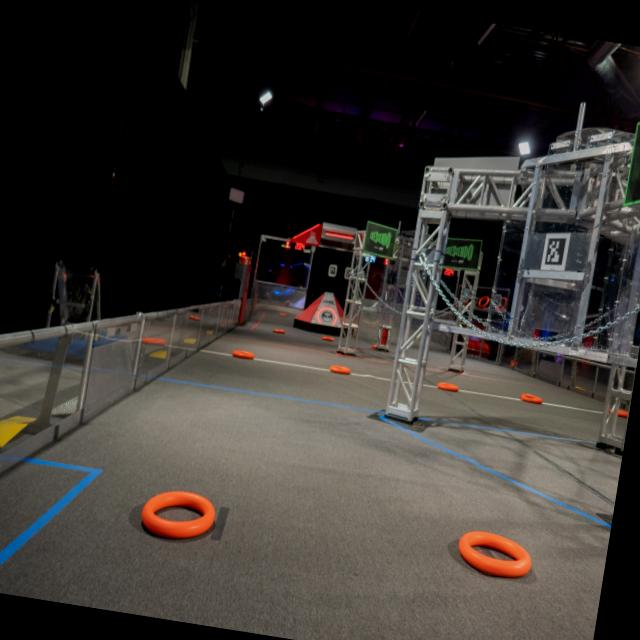note: (134, 474, 225, 556), (450, 519, 540, 588), (428, 372, 469, 402), (225, 338, 262, 369), (310, 327, 345, 353), (264, 320, 292, 348), (516, 386, 548, 410), (327, 360, 359, 380), (608, 401, 630, 426)
